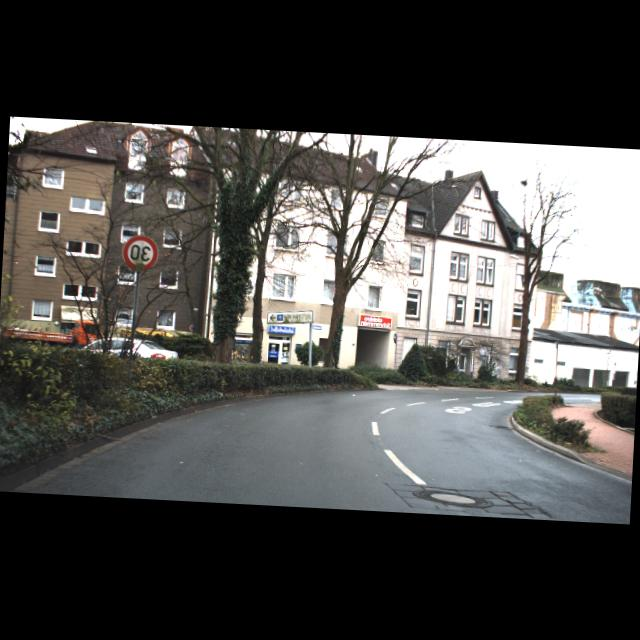prohibitory: (122, 234, 160, 272)
